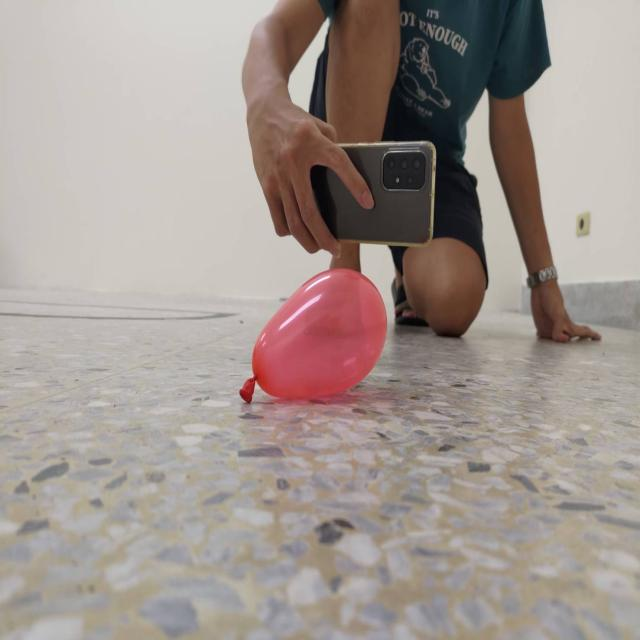red: (238, 266, 389, 404)
